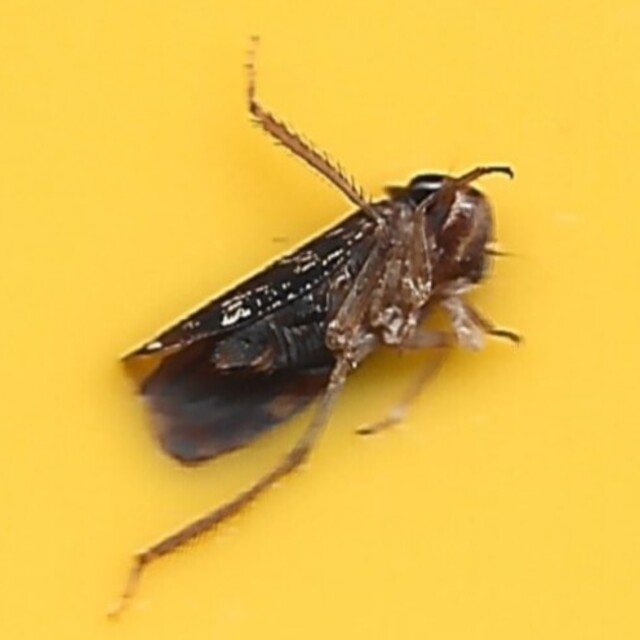Hemiptera: (129, 156, 511, 484)
